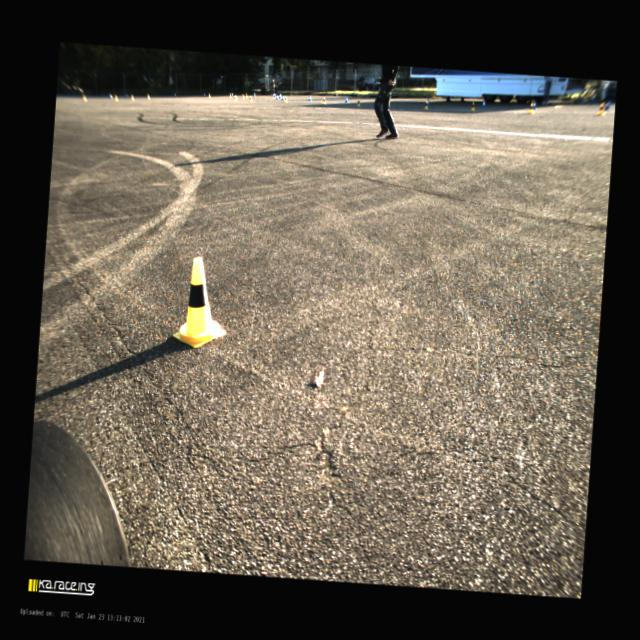blue_cone: (481, 98, 486, 108), (344, 95, 348, 103)
yellow_cone: (171, 254, 232, 350), (469, 100, 476, 112), (424, 100, 429, 110), (356, 98, 361, 106), (322, 96, 326, 104)
